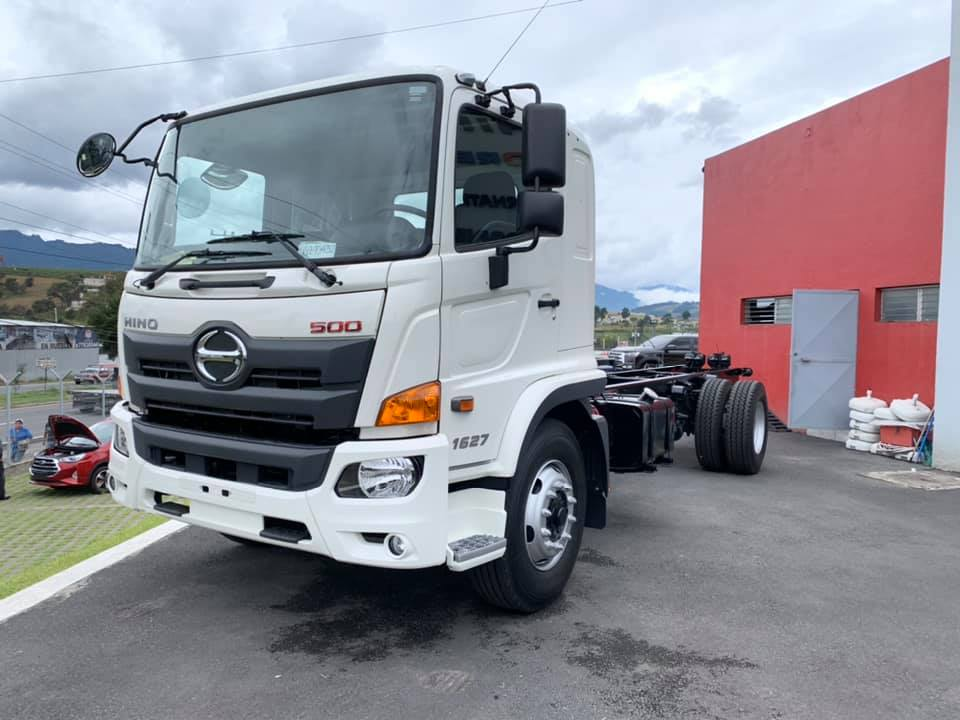camion: (70, 64, 769, 637)
